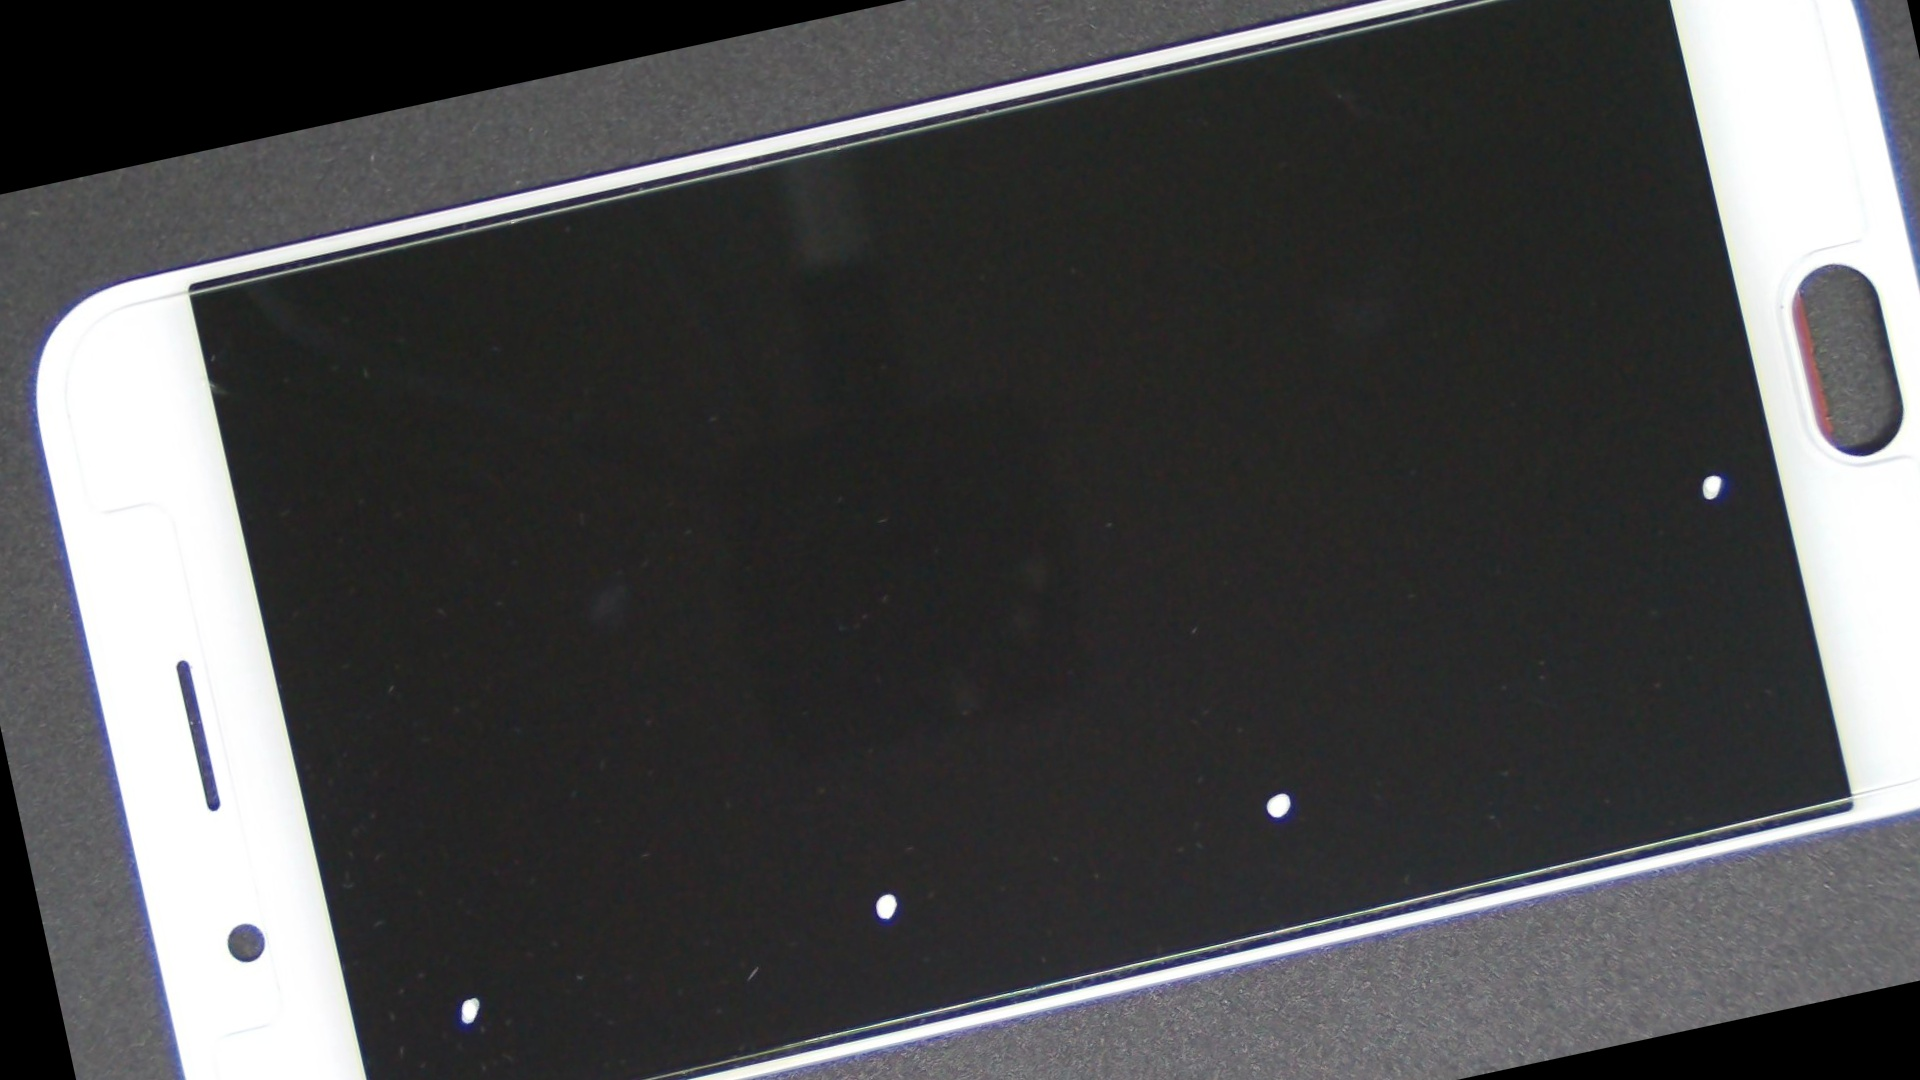oil: (584, 245, 1920, 1080), (799, 103, 1920, 965), (388, 381, 1352, 1080), (182, 521, 731, 1080)
